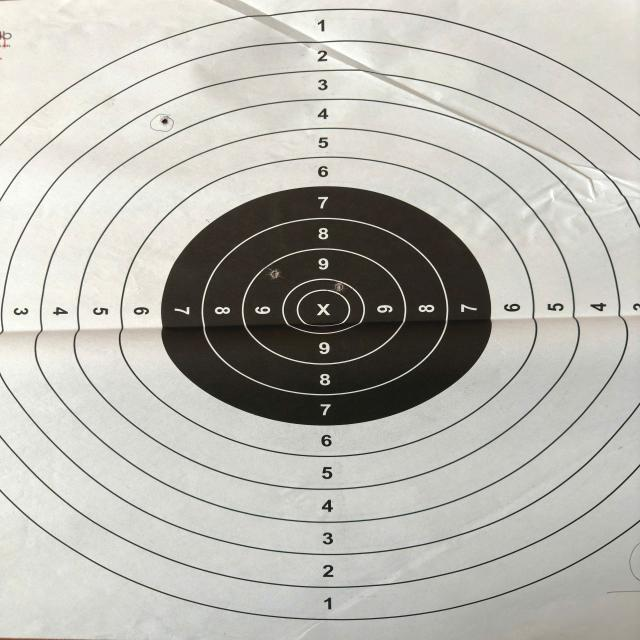bullet: (268, 268, 280, 280), (337, 284, 344, 292), (161, 116, 168, 124)
